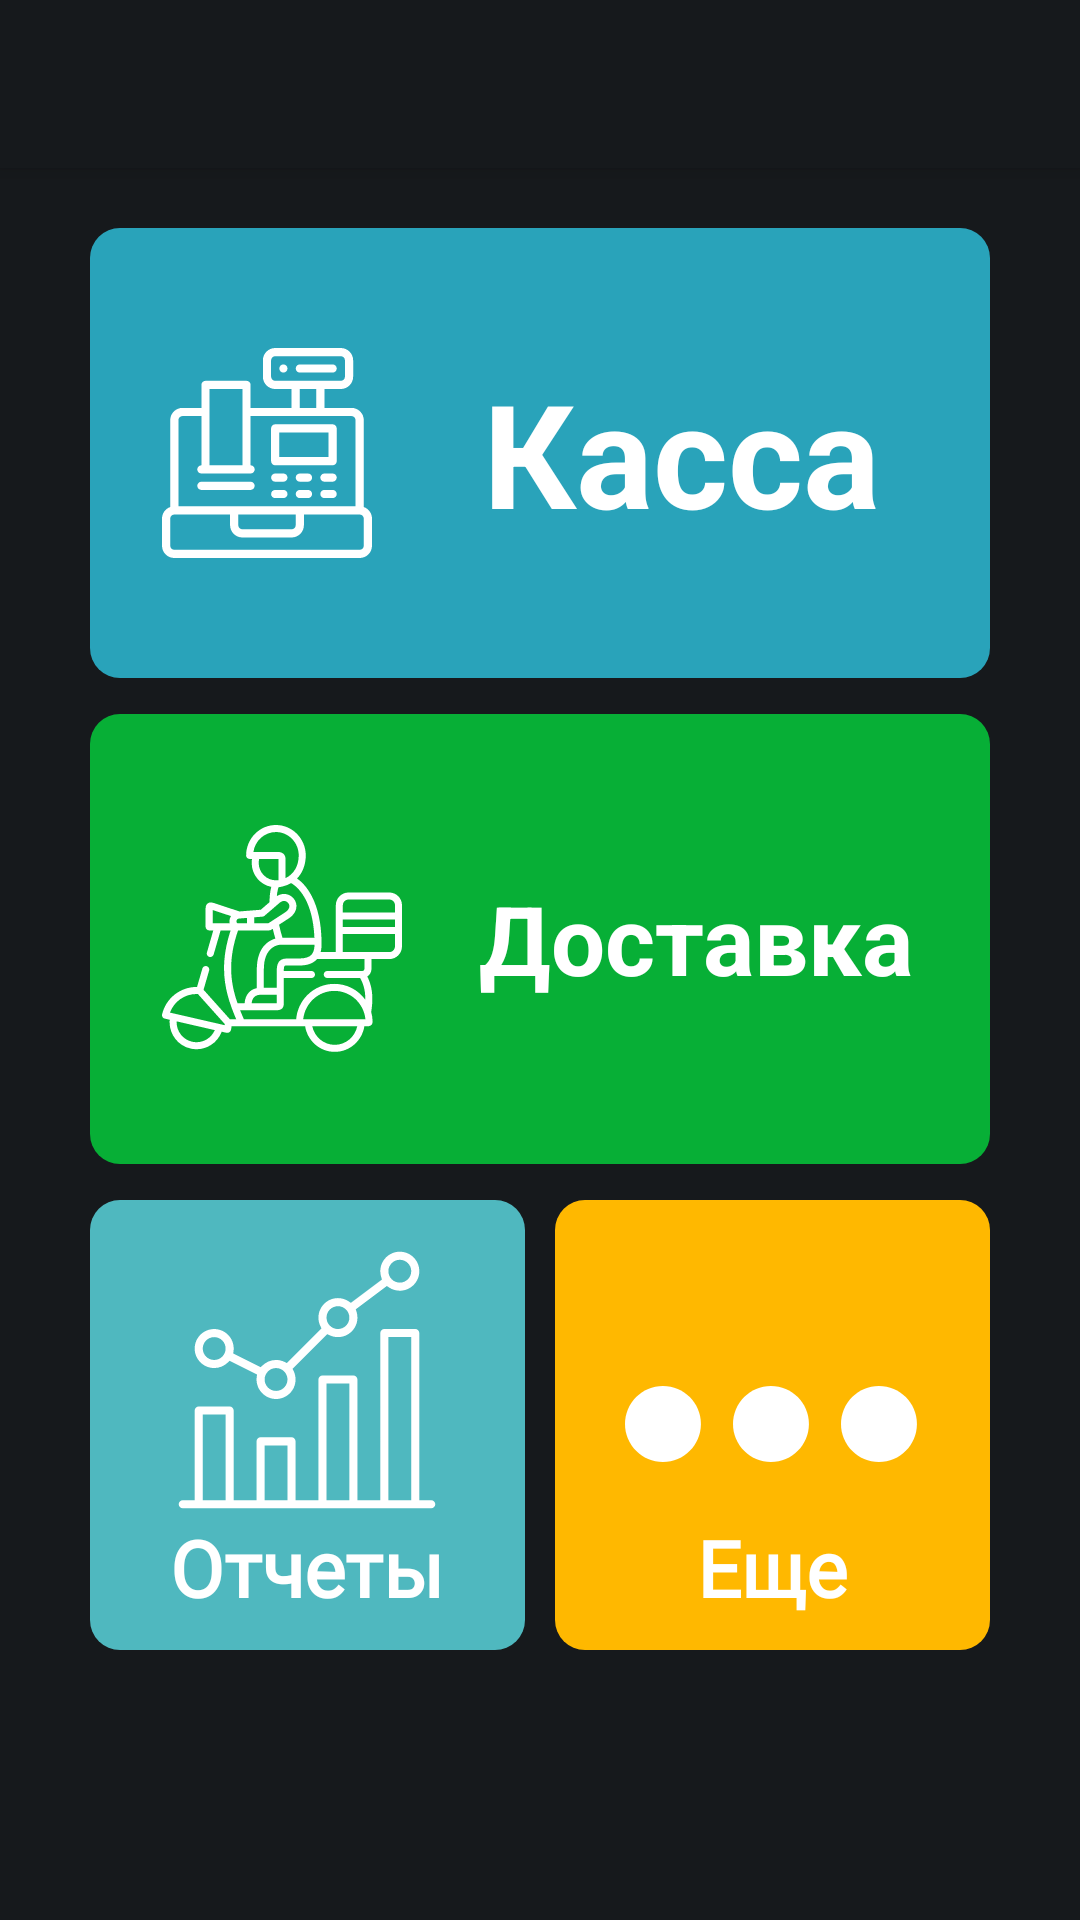

Icon click points for this 1080x1920 phone screenshot, format point (x, y):
cashbox: point (267, 453)
delivery man: point (282, 938)
